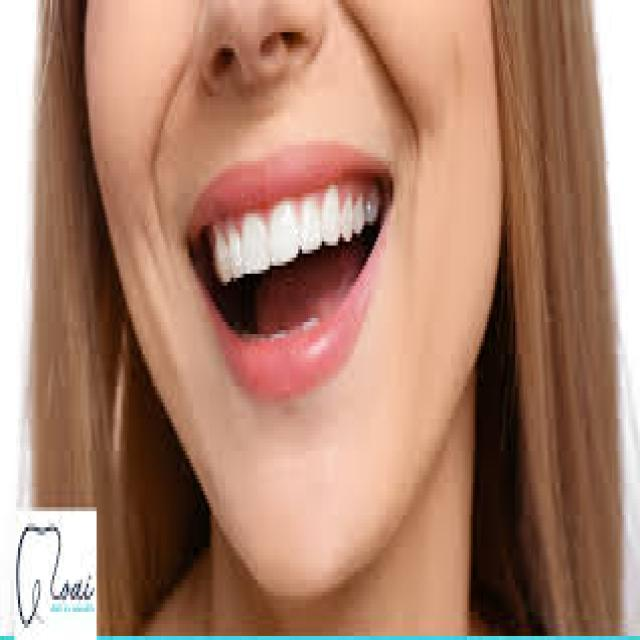tooth: (240, 217, 268, 274), (268, 201, 292, 258), (300, 193, 320, 254), (214, 233, 234, 290), (324, 181, 338, 246), (228, 221, 242, 282), (340, 189, 352, 246), (366, 181, 376, 222), (354, 198, 364, 234)
